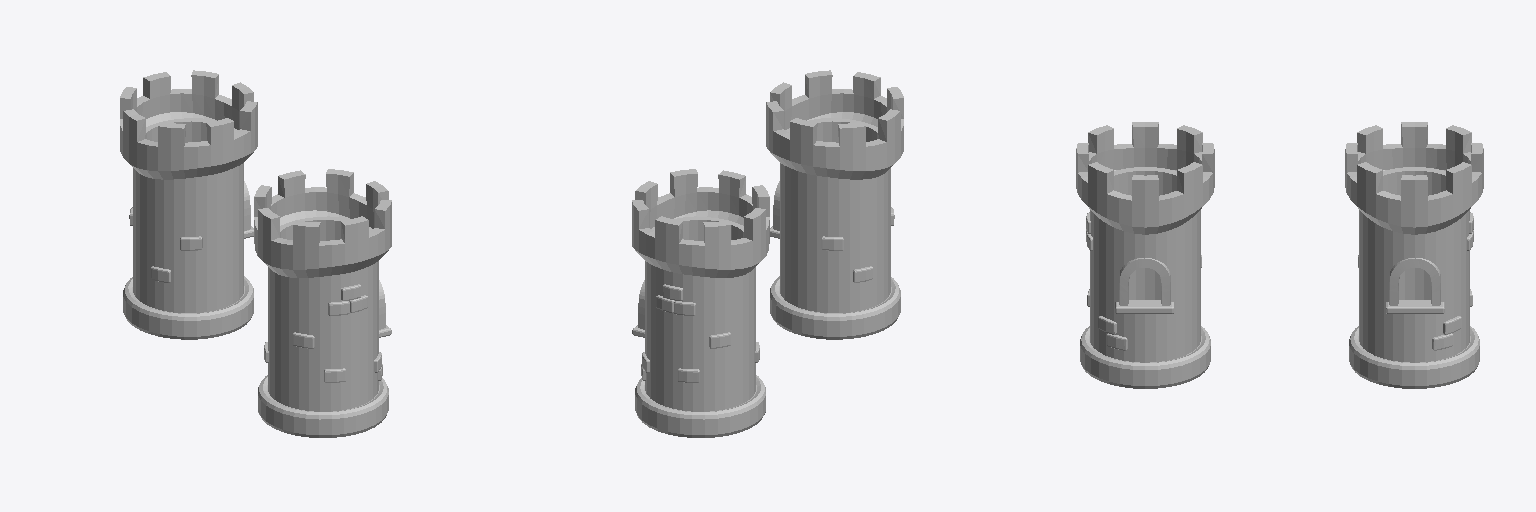
The model's file is castle_tower.obj.
3 renders of one model, left to right at view 1: azimuth 30°, elevation 25°; view 2: azimuth 150°, elevation 25°; view 3: azimuth 270°, elevation 25°, orthographic.
Visible parts, largest first — view 1: castle_tower; view 2: castle_tower; view 3: castle_tower.
Boxes of the visible parts, <box> form: castle_tower: <box>120,70,391,437</box>; castle_tower: <box>632,70,903,437</box>; castle_tower: <box>1076,122,1483,388</box>.
Bounding box in the file's own units: 9.84 × 16.86 × 29.